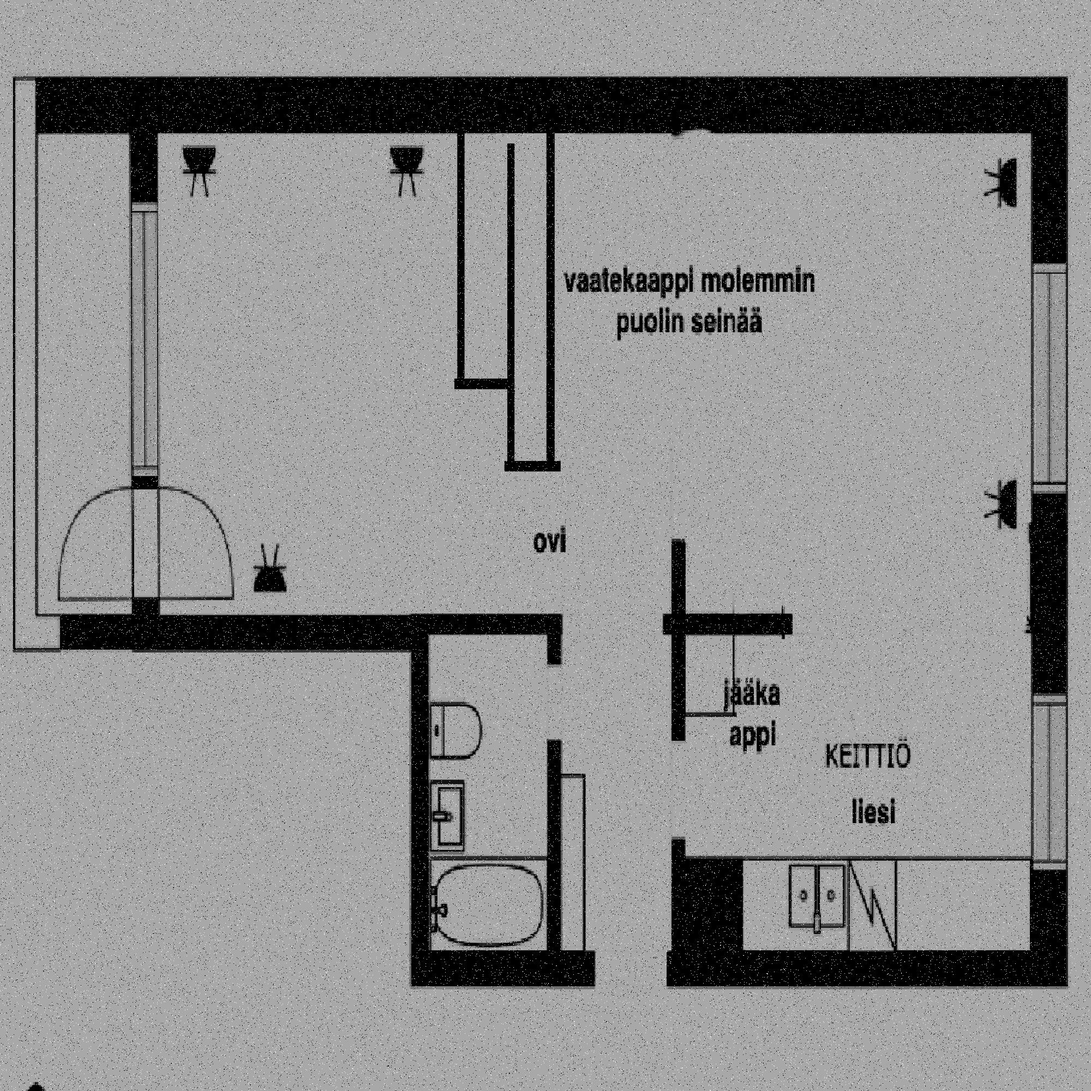wall: (132, 78, 1068, 132), (1032, 78, 1068, 986), (132, 78, 158, 649), (742, 950, 1068, 986), (132, 616, 429, 650), (411, 950, 671, 986), (671, 860, 742, 986), (411, 615, 429, 986), (429, 616, 792, 634), (36, 78, 132, 130), (672, 540, 684, 950), (505, 79, 517, 489), (549, 615, 561, 986), (61, 616, 132, 650), (549, 471, 561, 616), (504, 471, 561, 489)
